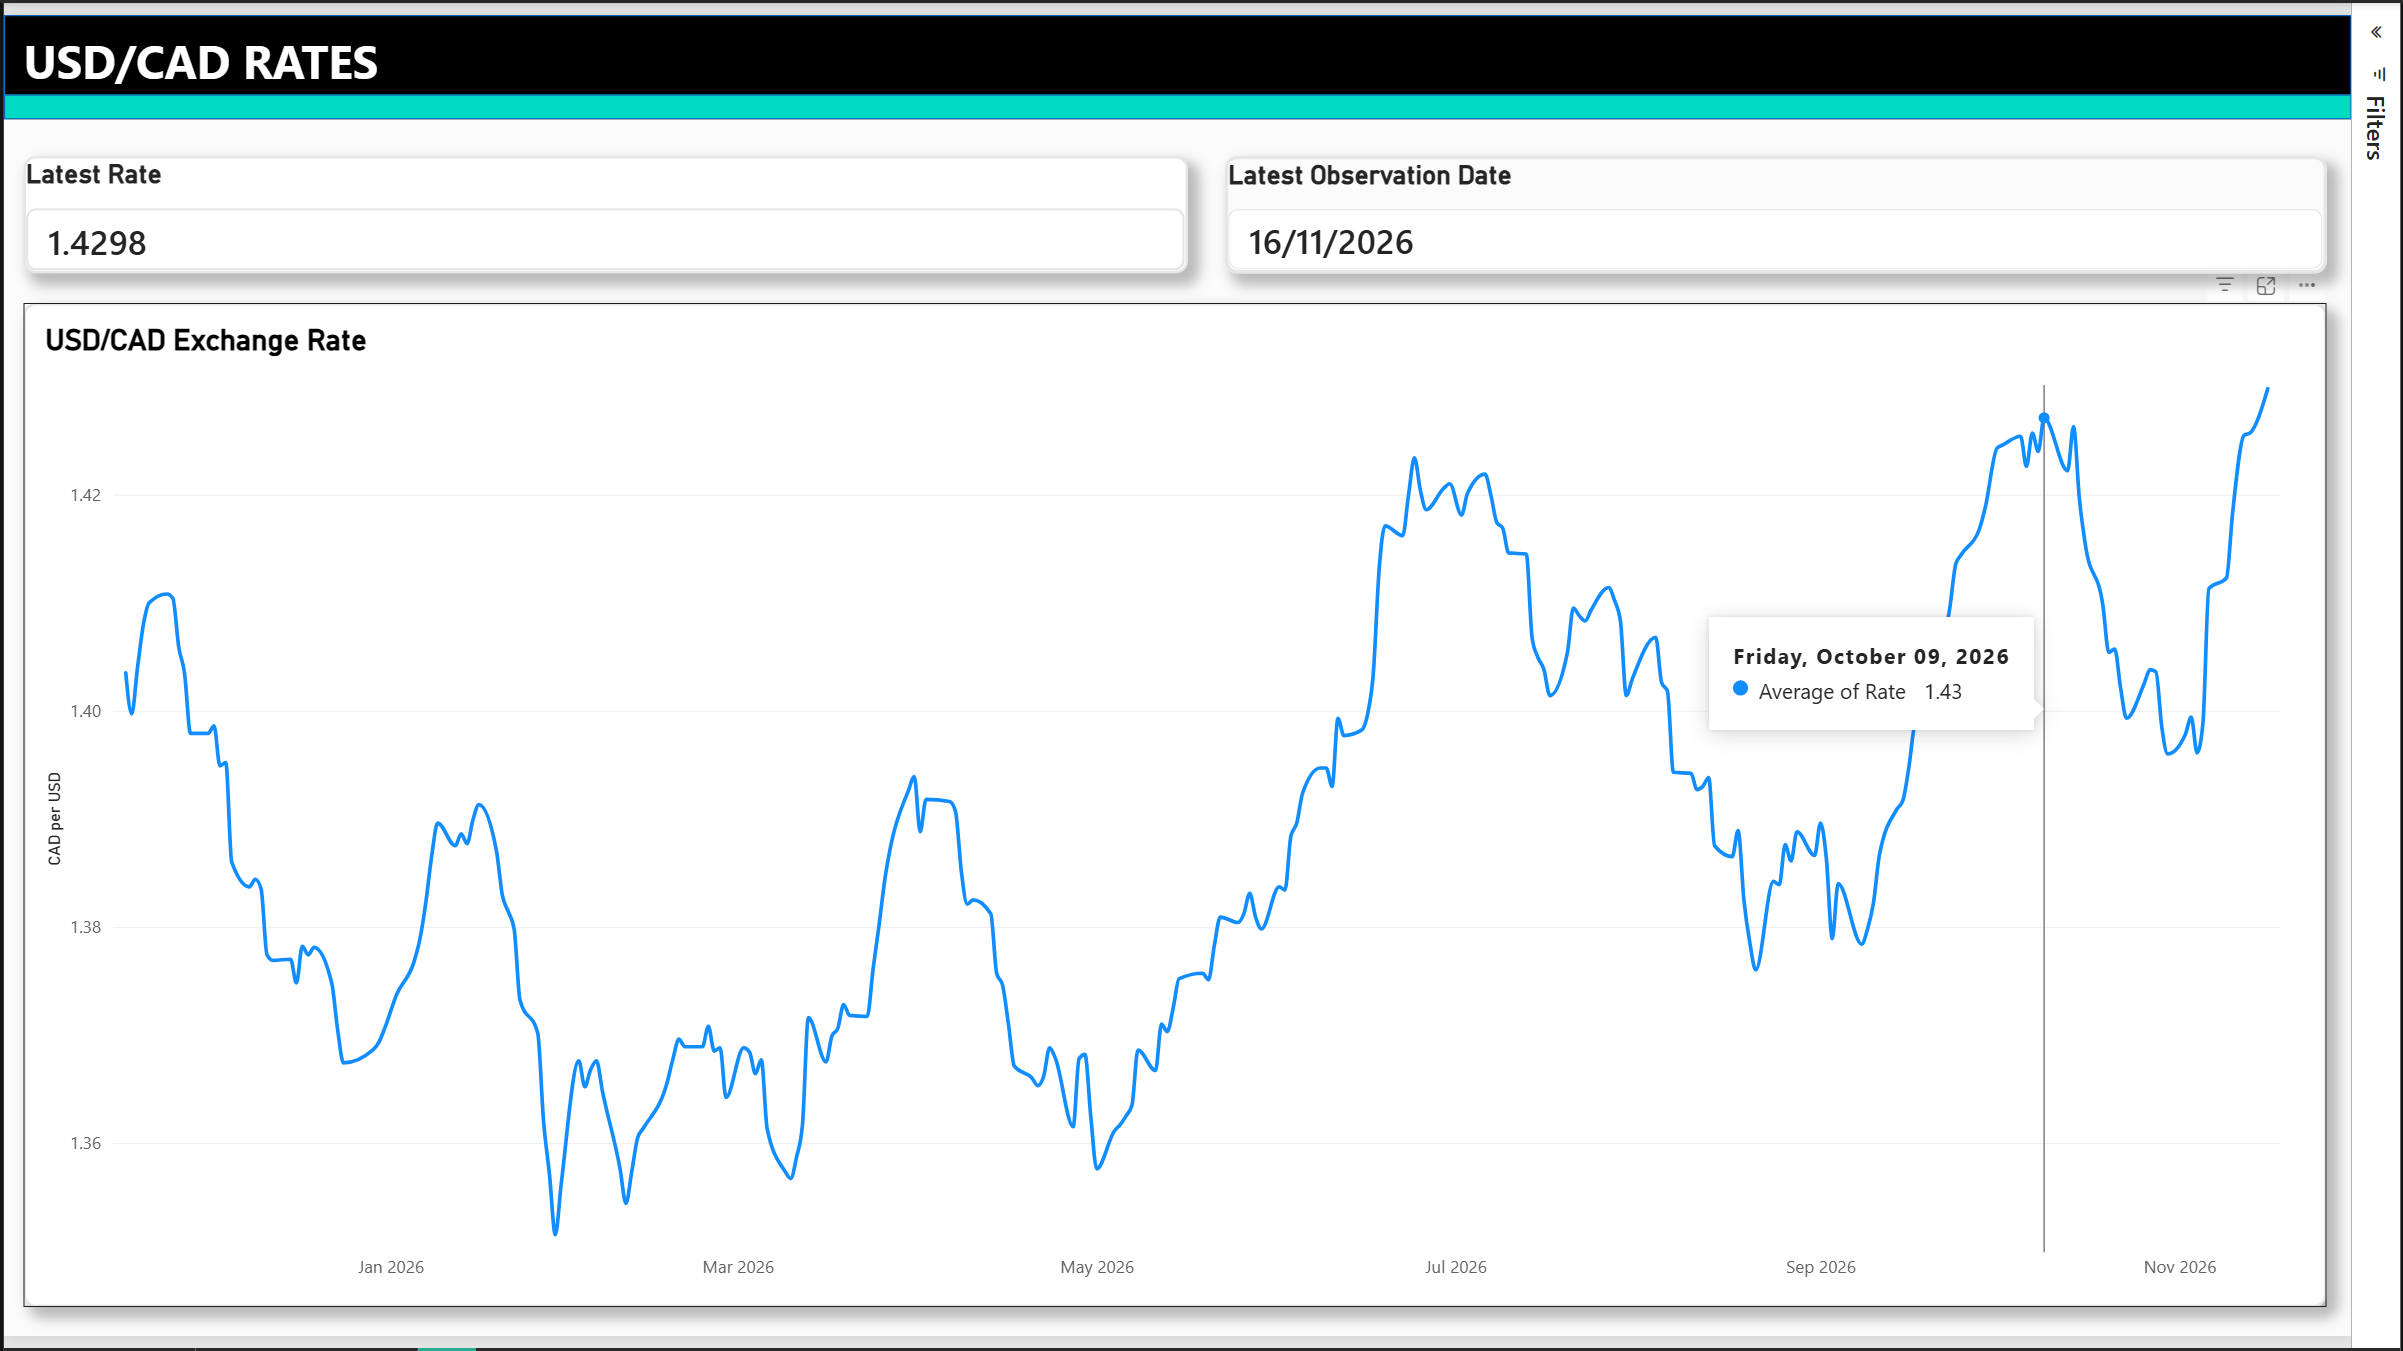

What the dashboard file says about the page in this screenshot:
{"tool":"powerbi","page":{"name":"USD/CAD Overview","canvas":[1920,1080],"ordinal":0},"visuals":[{"type":"lineChart","title":"USD/CAD Exchange Rate","fields":{"Category":["ExchangeRate.ObservationDate"],"Y":["Avg(ExchangeRate.Rate)"]},"box":[16.2,235.5,1883.9,821.5],"z":0},{"type":"cardVisual","title":"Latest Observation Date","fields":{"Data":["ExchangeRate.Latest Observation Date"]},"box":[998.8,115,901.4,96.1],"z":1000},{"type":"cardVisual","title":"Latest Rate","fields":{"Data":["ExchangeRate.Latest Rate"]},"box":[16.2,115,952.8,96.1],"z":2000},{"type":"shape","box":[0,0,1920.5,85.3],"z":2001},{"type":"shape","box":[0,65,1920.5,20.3],"z":2002},{"type":"textbox","box":[16.2,12.2,318,63.6],"z":2003}]}

Visuals, with their boxes in screenshot pixels (x1, y1, x2, y2):
"USD/CAD Exchange Rate" lineChart: [x1=1, y1=297, x2=2326, y2=1311]
"Latest Observation Date" cardVisual: [x1=1214, y1=148, x2=2327, y2=267]
"Latest Rate" cardVisual: [x1=1, y1=148, x2=1177, y2=267]
shape: [x1=0, y1=6, x2=2352, y2=112]
shape: [x1=0, y1=86, x2=2352, y2=112]
textbox: [x1=1, y1=21, x2=394, y2=100]
